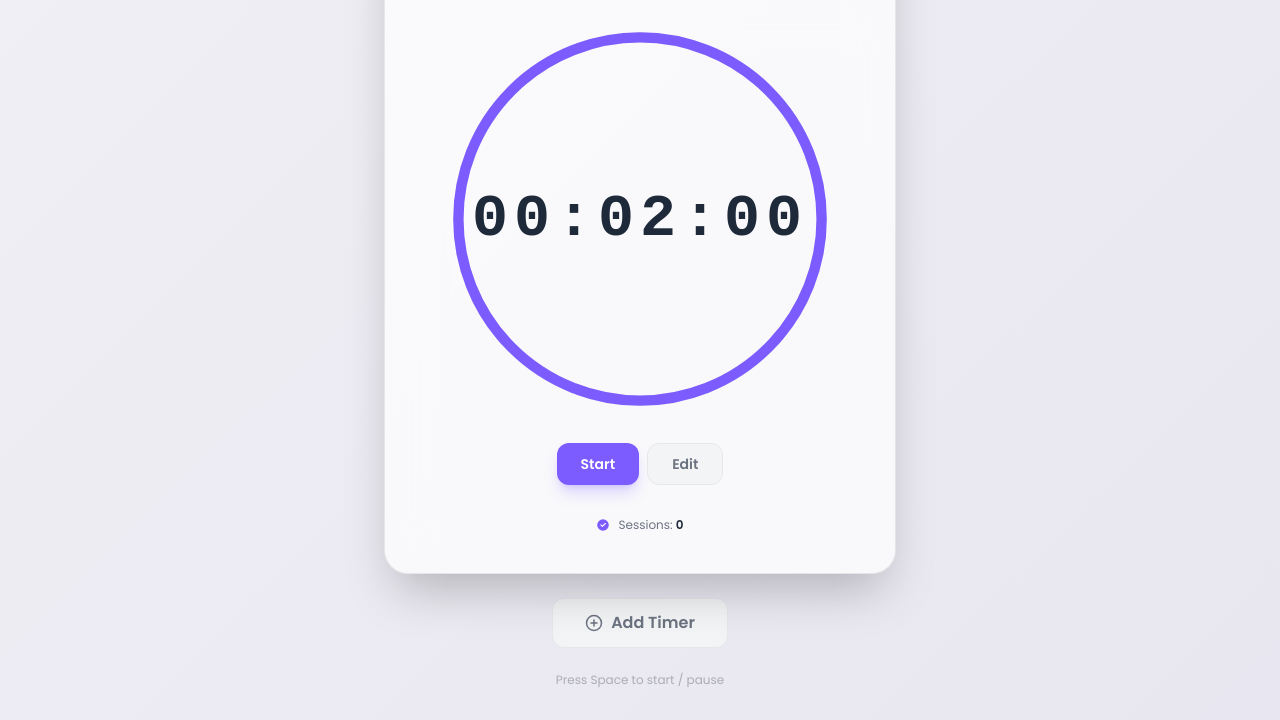
Test: Edit Timer › should open a popup when Edit button is clicked
(page scrolled)
Click the button with aria-label "edit button": [685, 464] box [647,443,723,485]
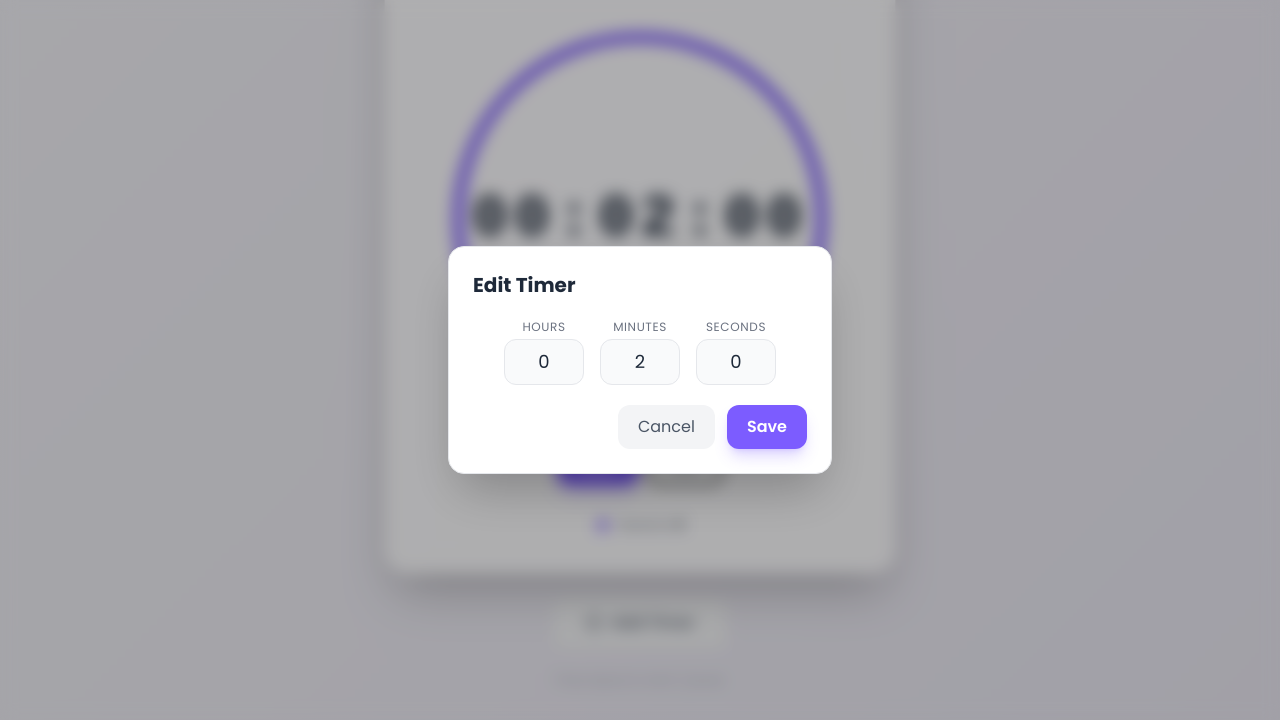
Expected: the dialog is shown
